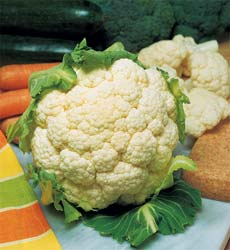cauliflower: (32, 58, 179, 213), (186, 48, 228, 98)
